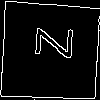Z: (25, 26, 73, 60)
